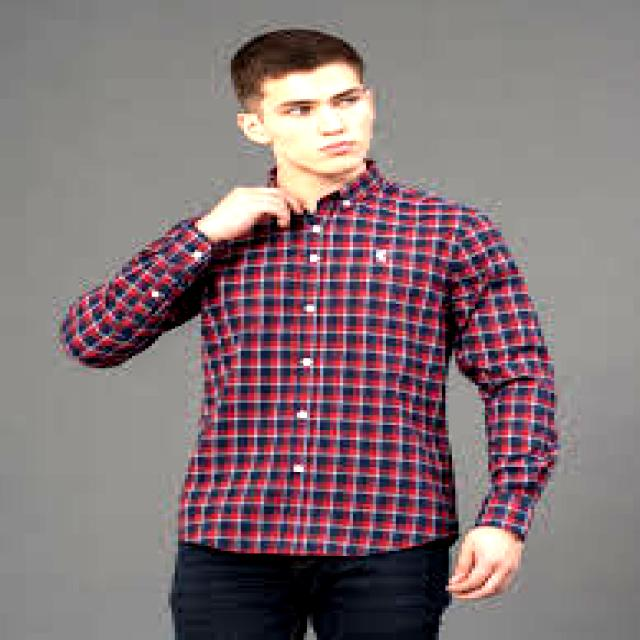face: (238, 62, 376, 177)
lower-wear: (169, 539, 451, 639)
top-wear: (60, 159, 557, 555)
